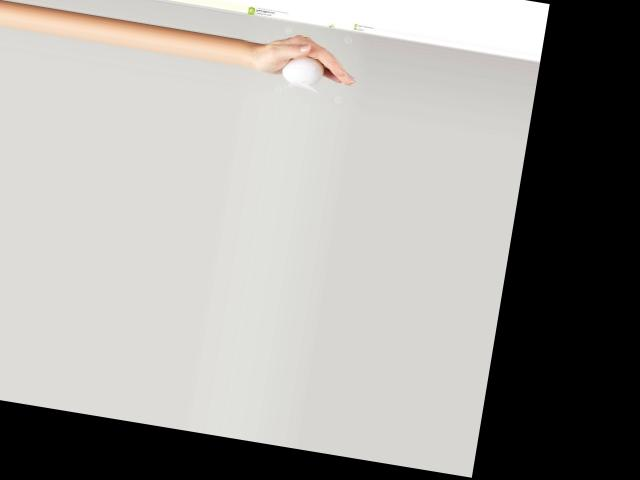egg: (280, 53, 326, 87)
